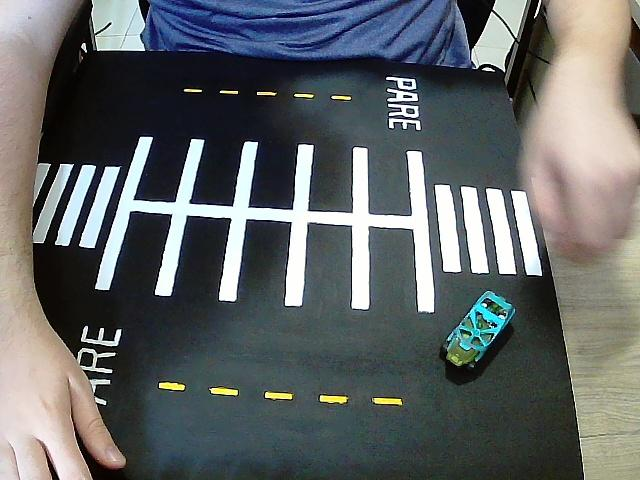Carro: (440, 291, 516, 373)
